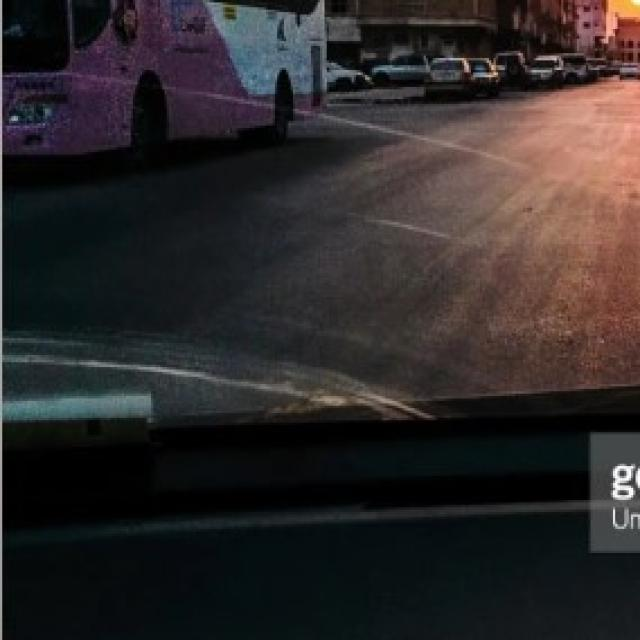bus: (0, 0, 325, 162)
car: (425, 58, 471, 97), (527, 53, 564, 89), (467, 57, 499, 96)
